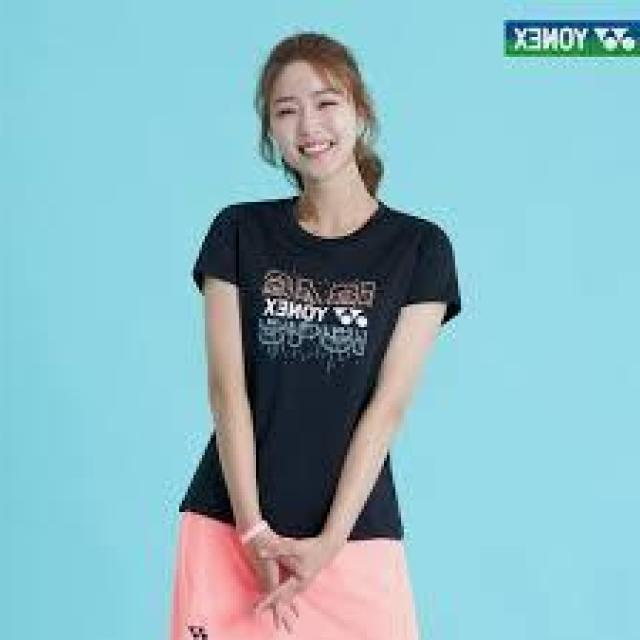Tshirt: (181, 190, 465, 540)
